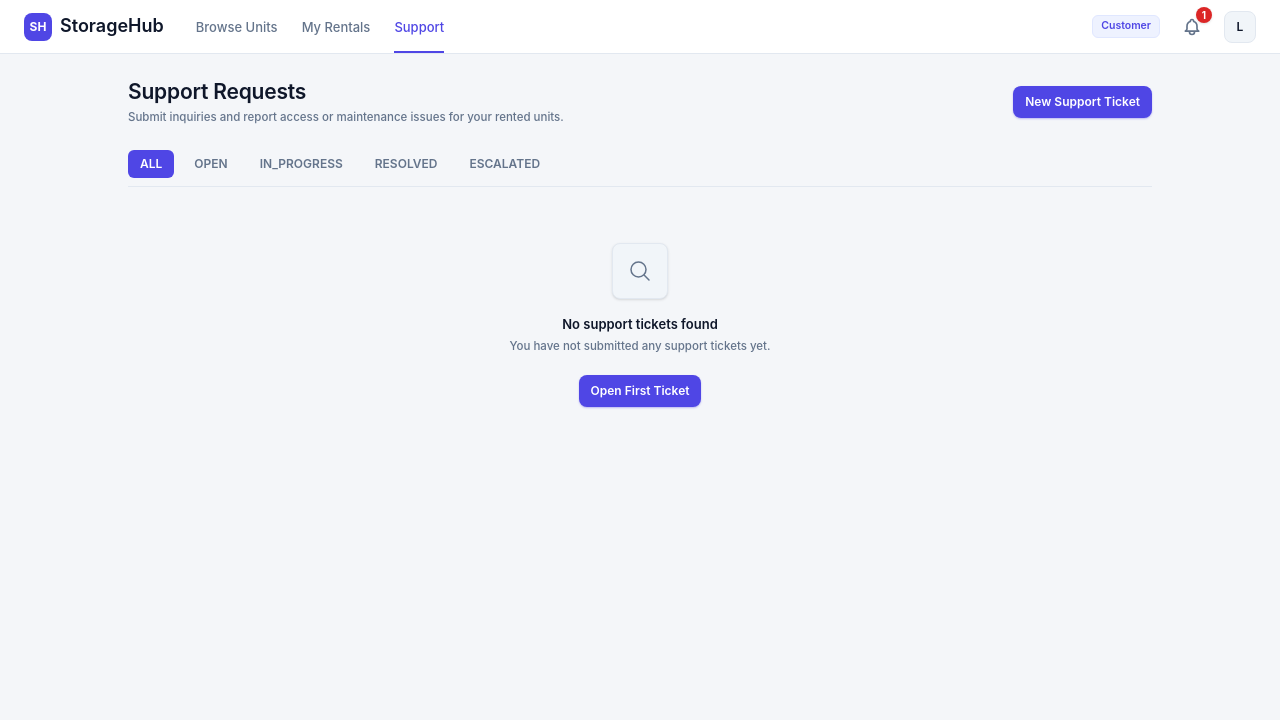
Scenario: Story 5.4: Customer Support List & Detail Drawer › displays empty state with single CTA button when no tickets exist
Check: the heading "No support tickets found" is shown, box [562,315,718,334]
// Click empty CTA opens NewSupportModal
Click the button with test id "empty-new-support-btn" at (640, 391), box [578,375,701,407]
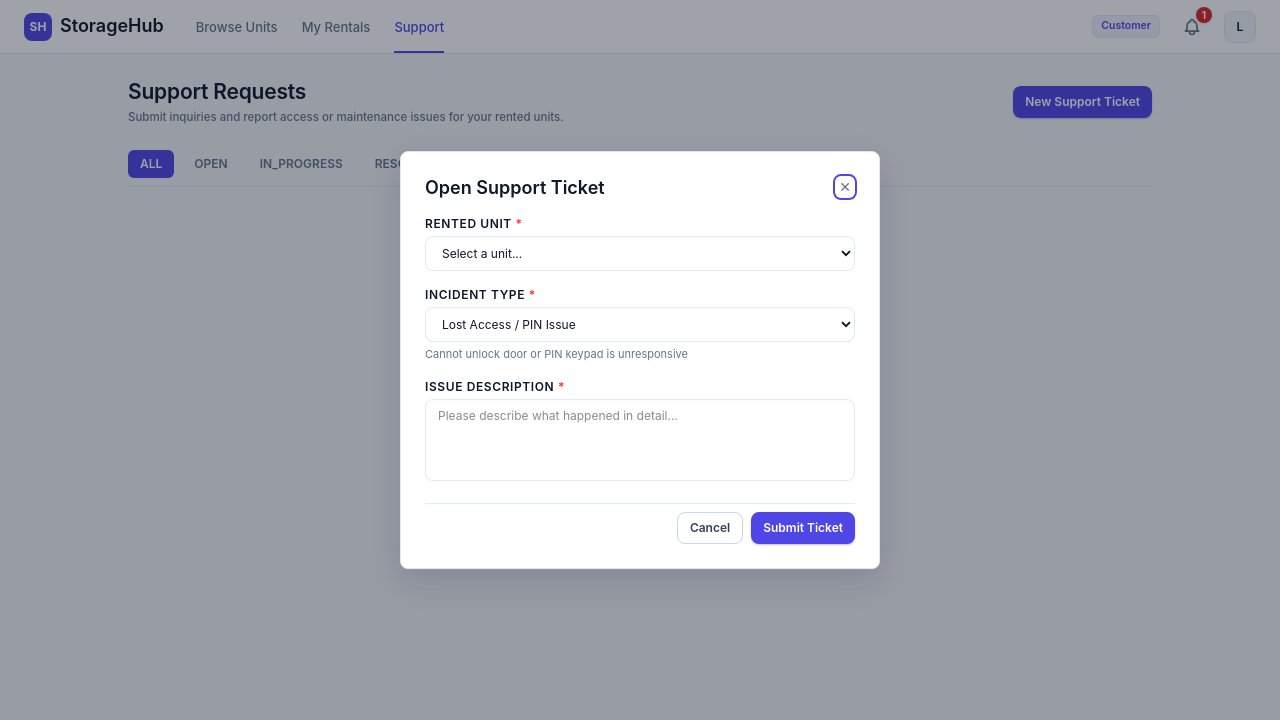
Check: the dialog is shown, box [400,151,880,569]
Check: the heading "Open Support Ticket" is shown, box [425,177,605,198]
